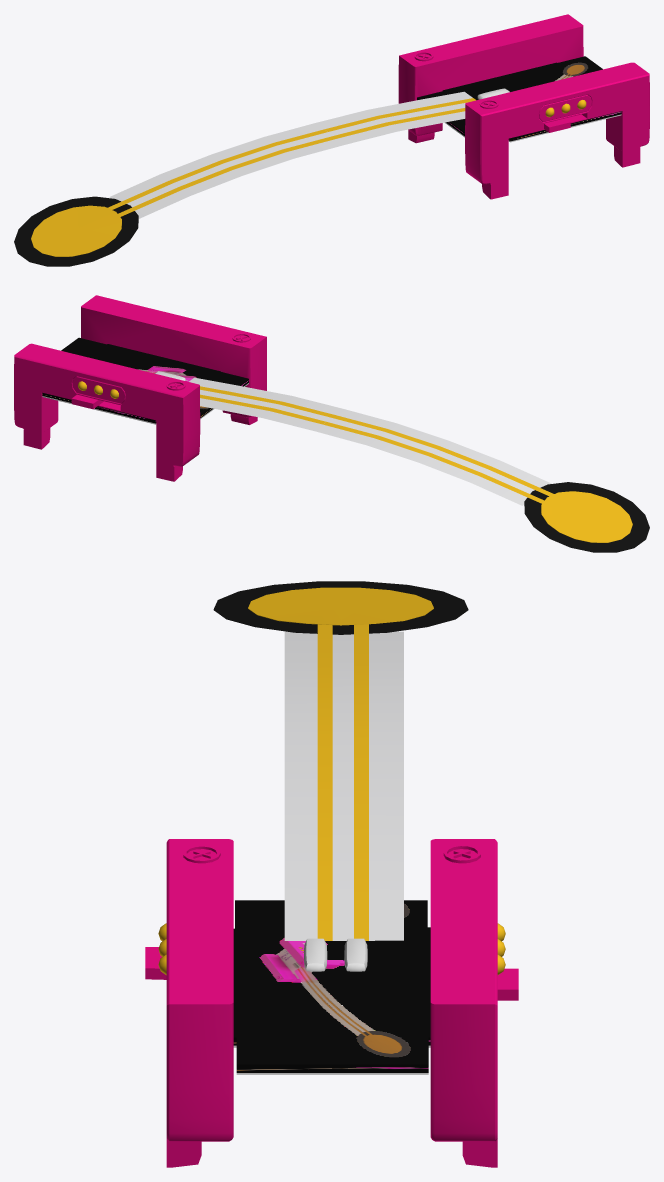
File: littlebit i11 pressure sensor.fbx
3 views of the same model, one above another, from view 1: azimuth 30°, elevation 25°; view 2: azimuth 150°, elevation 25°; view 3: azimuth 270°, elevation 25° (orthographic). The views are drawn at different scales.
Visible parts, largest first — view 1: Line001, Line002, Plane006, Cylinder006, Plane005, Cylinder005, Line003; view 2: Line002, Line001, Plane006, Cylinder006, Line003, Plane005, Cylinder005; view 3: Plane006, Line003, Line002, Line001, Plane005, Cylinder006, Cylinder005.
Part boxes in pixels (<box>): Line001: <box>465,62,649,199</box>; Line002: <box>398,14,583,143</box>; Plane006: <box>109,91,472,218</box>; Cylinder006: <box>31,205,121,256</box>; Plane005: <box>107,98,475,216</box>; Cylinder005: <box>14,196,138,266</box>; Line003: <box>417,56,621,141</box>; Line002: <box>14,343,200,481</box>; Line001: <box>81,295,266,424</box>; Plane006: <box>189,377,551,505</box>; Cylinder006: <box>541,491,632,542</box>; Line003: <box>42,337,248,423</box>; Plane005: <box>200,386,553,503</box>; Cylinder005: <box>524,482,649,552</box>; Plane006: <box>284,631,403,940</box>; Line003: <box>233,900,430,1072</box>; Line002: <box>430,839,518,1167</box>; Line001: <box>145,839,233,1167</box>; Plane005: <box>317,624,368,940</box>; Cylinder006: <box>248,587,433,625</box>; Cylinder005: <box>213,581,468,634</box>.
Bounding box in the file's own units: 90.16 × 24.96 × 13.
